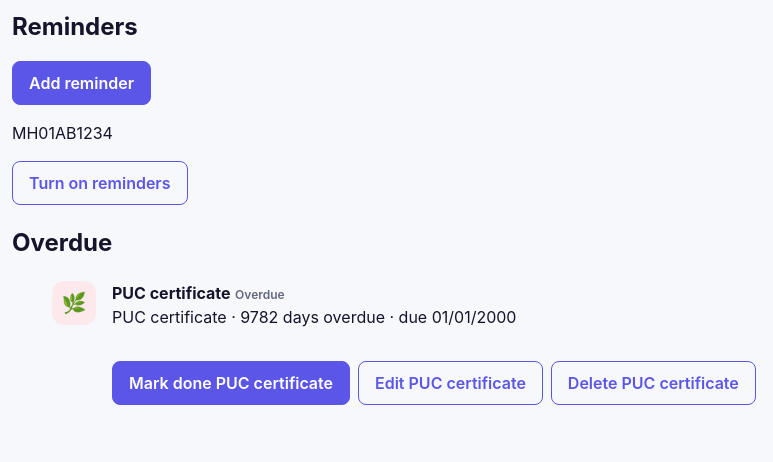
Scenario: Turn on reminders — opt-in (FR-REM-04, TC-REM-05) › asks only after the user taps Turn on reminders, and then shows they are on
The image size is (773, 462).
Click the button "Turn on reminders" at (100, 183), box [12,161,188,205]
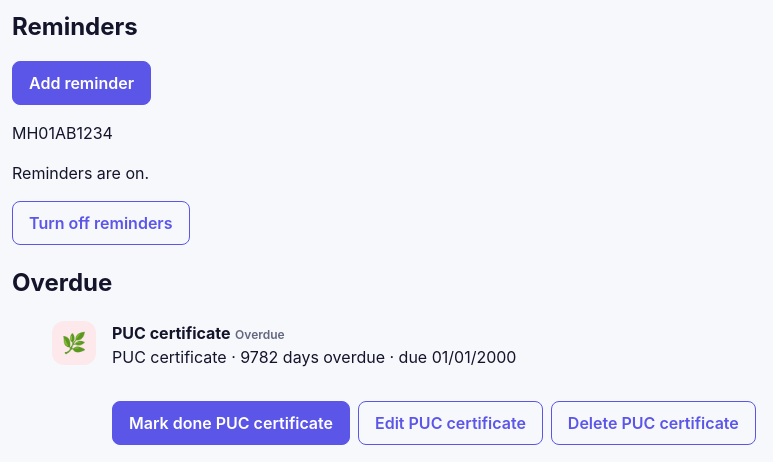
Check: the text "Reminders are on." is shown, box [12,163,149,183]
